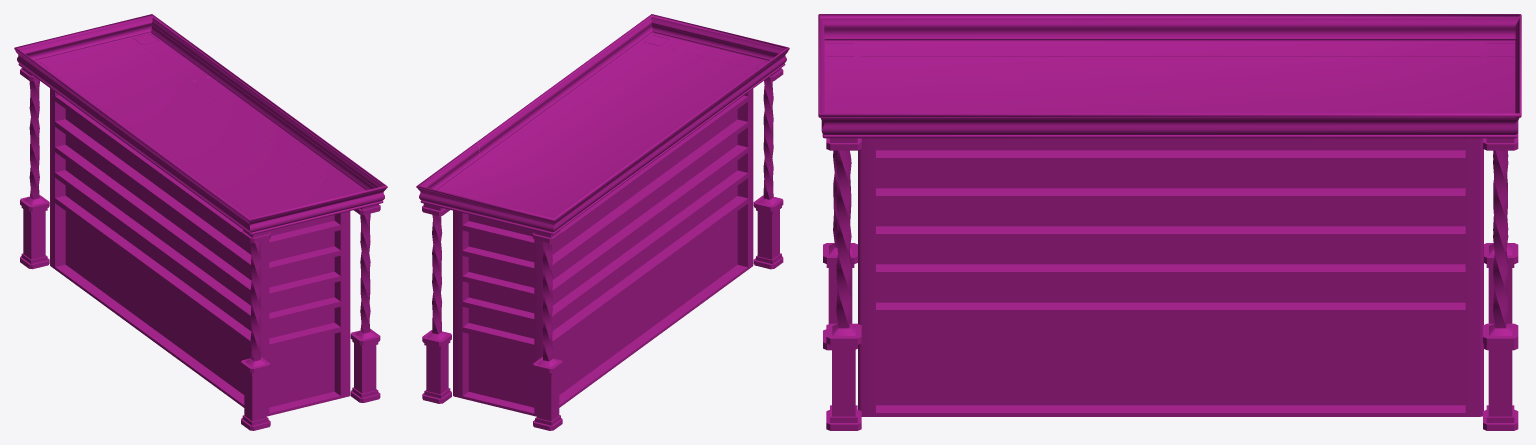
The model's file is bibli3.FBX.
The picture shows the model from 3 angles, left to right: view 1: azimuth 30°, elevation 25°; view 2: azimuth 150°, elevation 25°; view 3: azimuth 270°, elevation 25°; orthographic projection. The views are drawn at different scales.
Parts seen in each view (by area): view 1: New biblio; view 2: New biblio; view 3: New biblio.
Part boxes in pixels (bbox=[...]): New biblio: bbox=[14, 14, 387, 430]; New biblio: bbox=[416, 14, 789, 430]; New biblio: bbox=[818, 14, 1521, 430].
Bounding box in the file's own units: 110 × 163 × 324.
